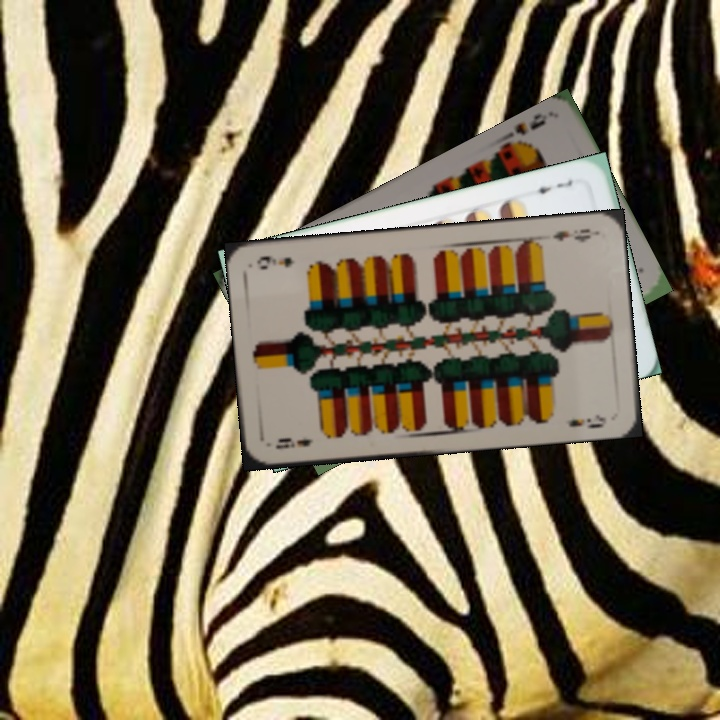E7: (527, 175, 576, 197)
E9: (549, 224, 599, 245), (272, 433, 316, 452)
S9: (497, 109, 551, 150)
